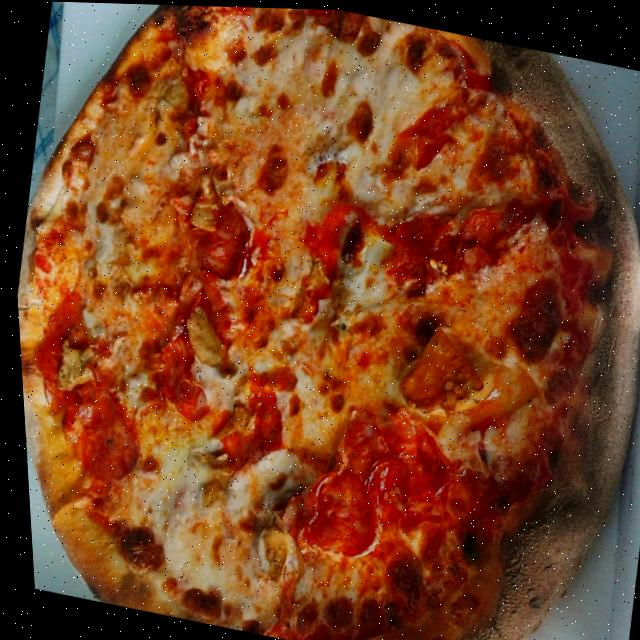pepperoni: (283, 460, 387, 565), (384, 317, 484, 418), (370, 190, 460, 287), (59, 380, 142, 483), (211, 367, 285, 478), (175, 185, 256, 281), (444, 191, 523, 272), (144, 326, 209, 423), (301, 192, 368, 279), (358, 446, 430, 515), (324, 416, 391, 478)
pizza: (0, 0, 640, 640)
